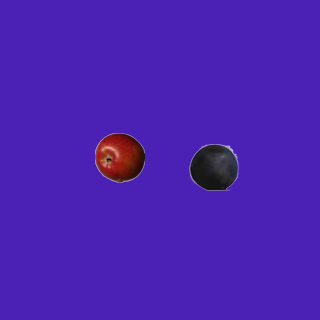Apple Braeburn: (94, 132, 144, 182)
Grape Blue: (188, 141, 238, 191)
